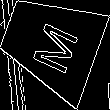M_W: (23, 12, 79, 74)
